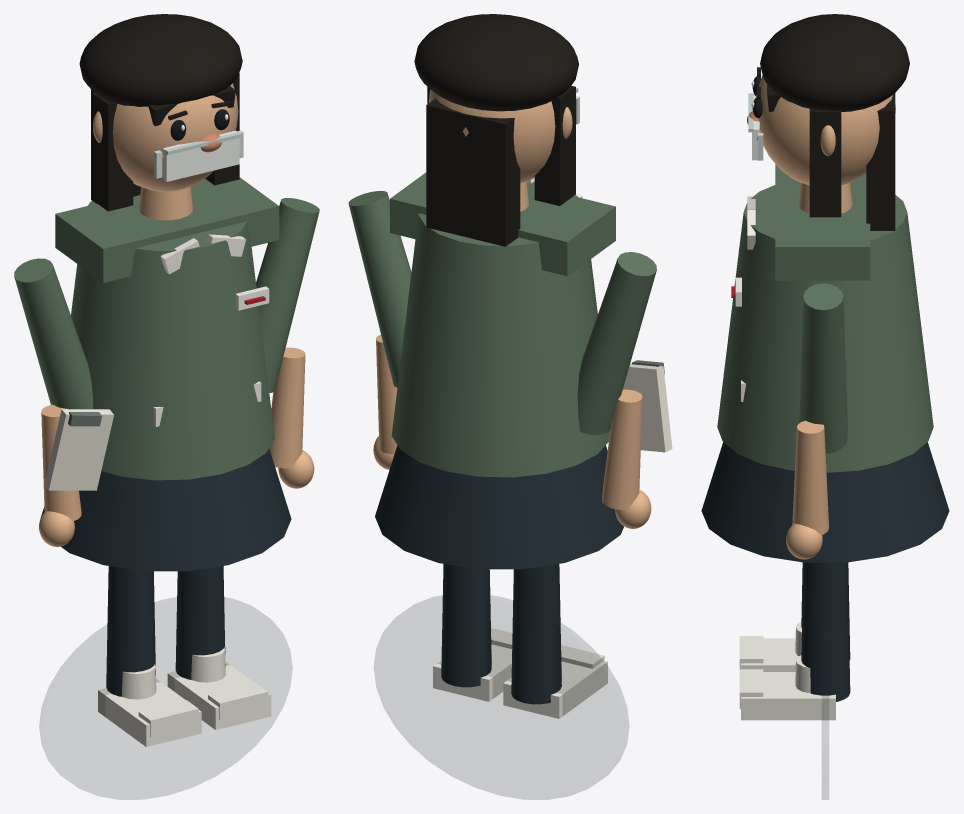
Rendered from staff_05_depot.glb.
3 renders of one model, left to right at view 1: azimuth 30°, elevation 25°; view 2: azimuth 150°, elevation 25°; view 3: azimuth 270°, elevation 25°, orthographic. The views are drawn at different scales.
Visible parts, largest first — view 1: torso, contact_shadow, skirt, hair_cap, shoulder_line, upper_arm_-0.235, upper_arm_0.235, head, leg_-0.075, leg_0.075, clipboard, forearm_0.235 (+14 smaller); view 2: torso, contact_shadow, skirt, hair_cap, back_hair, upper_arm_-0.235, shoulder_line, leg_-0.075, upper_arm_0.235, leg_0.075, forearm_-0.235, head (+7 smaller); view 3: torso, skirt, hair_cap, shoulder_line, upper_arm_0.235, leg_0.075, head, forearm_0.235, shoe_0.075, side_hair_0.115, back_hair, shoe_-0.075 (+6 smaller).
Part boxes in pixels (box(x1,y1,x2,y2)): torso: box(71, 201, 274, 480); contact_shadow: box(39, 597, 291, 799); skirt: box(41, 448, 291, 571); hair_cap: box(79, 14, 242, 106); shoulder_line: box(55, 177, 279, 282); upper_arm_-0.235: box(14, 258, 93, 409); upper_arm_0.235: box(256, 198, 319, 392); head: box(112, 83, 238, 191); leg_-0.075: box(106, 566, 156, 696); leg_0.075: box(175, 566, 225, 679); clipboard: box(44, 409, 113, 490); forearm_0.235: box(269, 347, 305, 468); torso: box(391, 181, 610, 477); contact_shadow: box(374, 595, 628, 799); skirt: box(375, 445, 623, 569); hair_cap: box(414, 14, 578, 111); back_hair: box(426, 98, 520, 246); upper_arm_-0.235: box(577, 252, 656, 434); shoulder_line: box(390, 172, 615, 276); leg_-0.075: box(511, 564, 561, 704); upper_arm_0.235: box(348, 191, 411, 387); leg_0.075: box(441, 564, 491, 687); forearm_-0.235: box(602, 389, 642, 509); head: box(428, 89, 555, 183); torso: box(717, 185, 933, 472); skirt: box(701, 442, 949, 562); hair_cap: box(760, 14, 909, 111); shoulder_line: box(775, 164, 870, 280); upper_arm_0.235: box(799, 283, 847, 453); leg_0.075: box(801, 562, 850, 701); head: box(756, 74, 895, 185); forearm_0.235: box(792, 420, 829, 534); shoe_0.075: box(741, 672, 835, 720); side_hair_0.115: box(809, 108, 841, 217); back_hair: box(866, 93, 895, 230); shoe_-0.075: box(741, 638, 798, 671).
Size of the model in its own units: 0.6295 by 1.53 by 0.4559.
